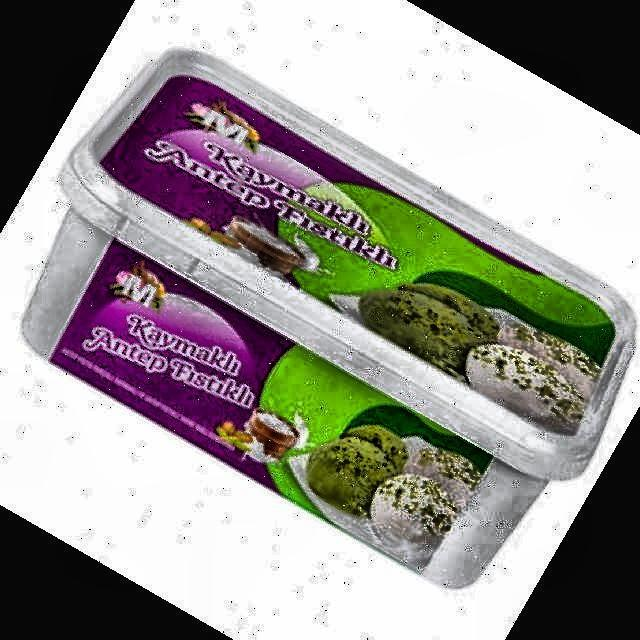plastic: (24, 50, 635, 587)
